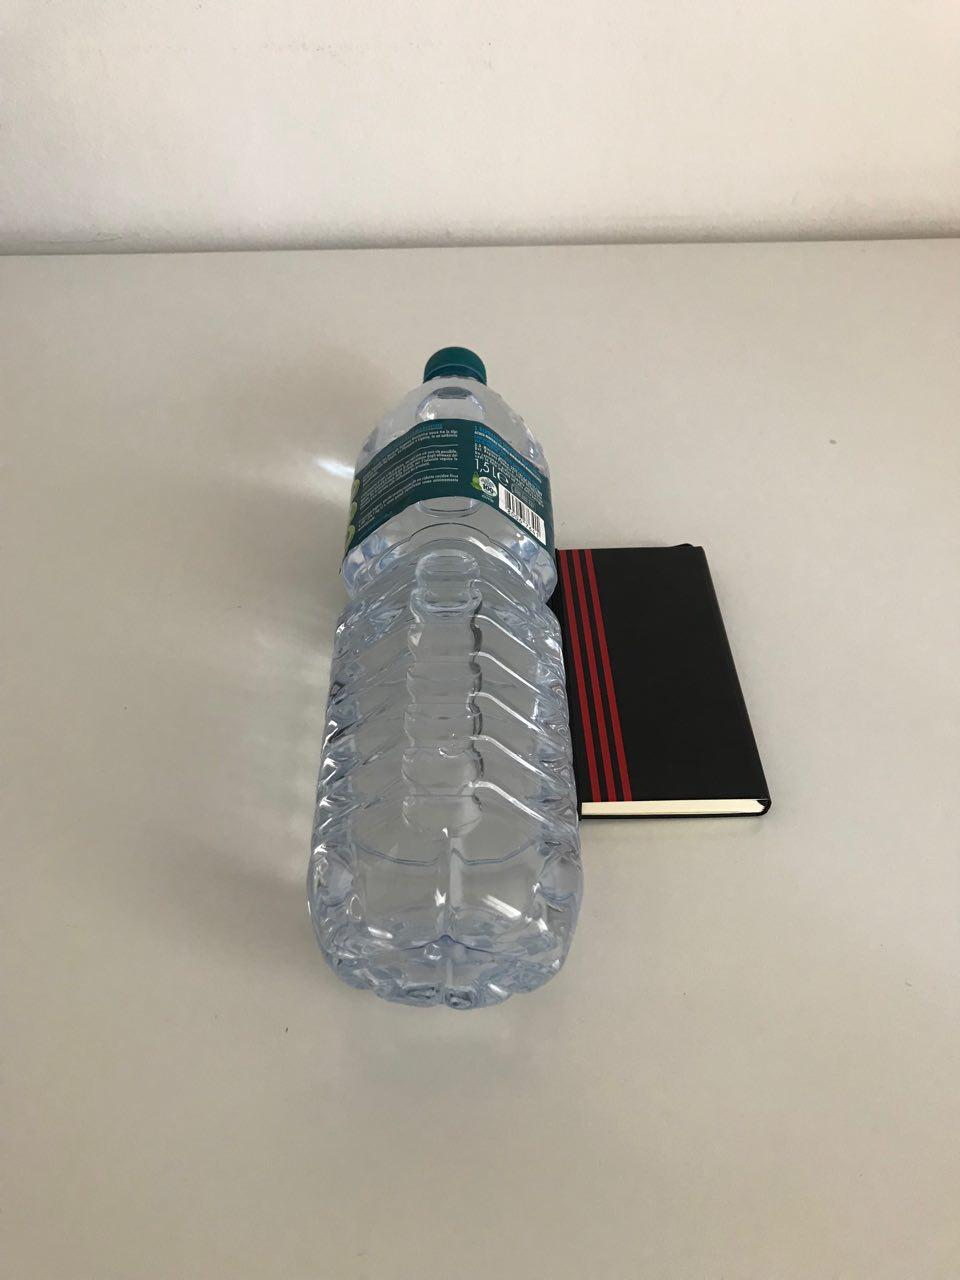san_bernardo: (307, 346, 587, 1012)
